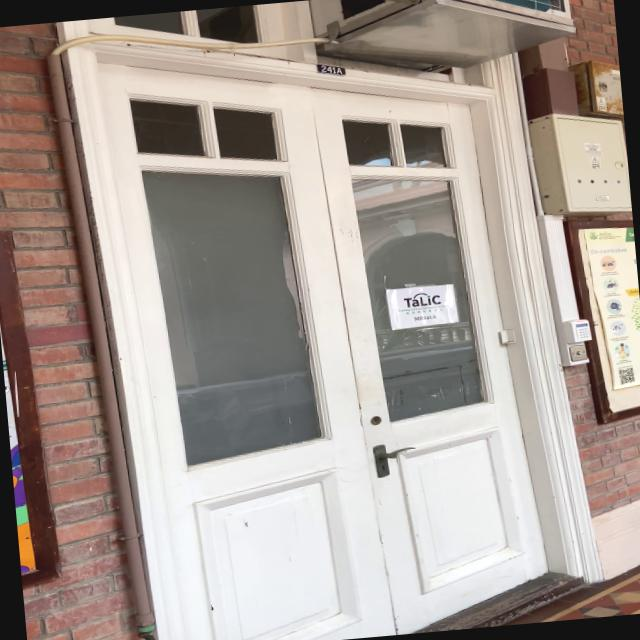room241a: (312, 58, 348, 78)
